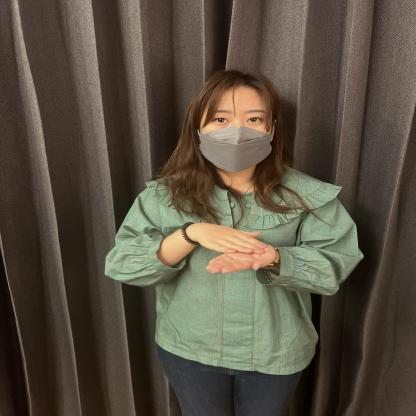Love: (149, 195, 328, 315)
